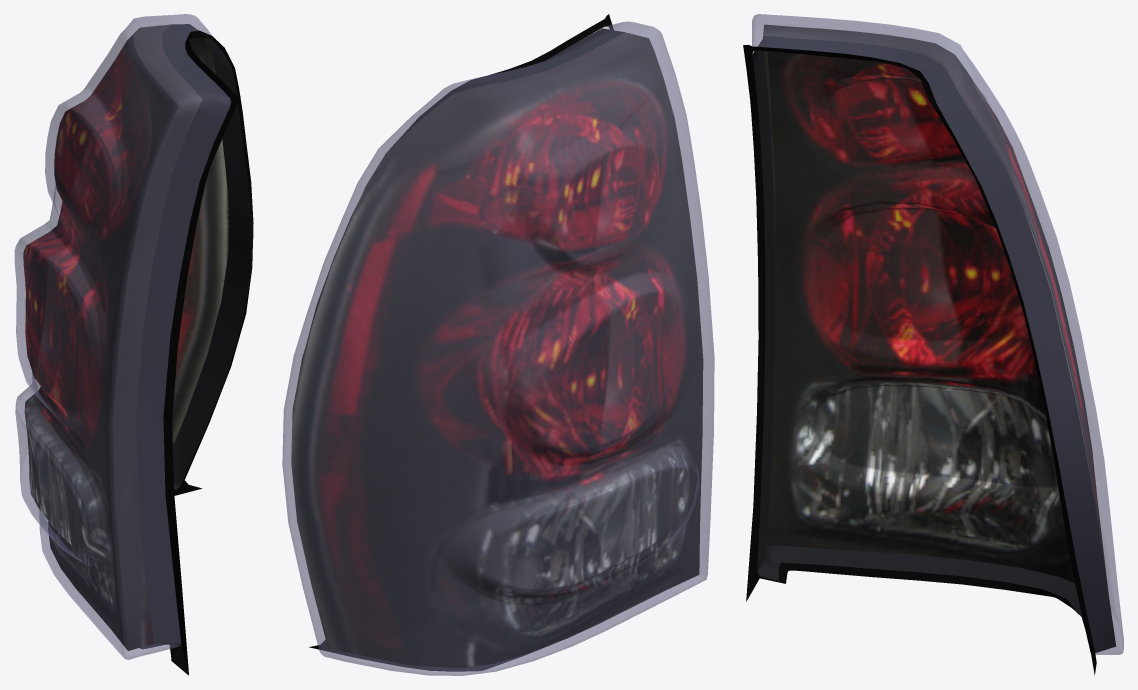
3 renders of one model, left to right at view 1: azimuth 30°, elevation 25°; view 2: azimuth 150°, elevation 25°; view 3: azimuth 270°, elevation 25°, orthographic. The views are drawn at different scales.
Parts seen in each view (by area): view 1: U843_9A_541C_L_1_N_U843_9A_541C_L, U843_9A_541C_L_U843_9A_541C_L_2_DTaSI, U843_9A_541C_L_U843_9A_541C_L_3_D; view 2: U843_9A_541C_L_U843_9A_541C_L_2_DTaSI, U843_9A_541C_L_1_N_U843_9A_541C_L, U843_9A_541C_L_U843_9A_541C_L_3_D; view 3: U843_9A_541C_L_1_N_U843_9A_541C_L, U843_9A_541C_L_U843_9A_541C_L_2_DTaSI, U843_9A_541C_L_U843_9A_541C_L_3_D.
Part boxes in pixels (x1,y1,x2,y2): U843_9A_541C_L_1_N_U843_9A_541C_L: (23, 24, 253, 650); U843_9A_541C_L_U843_9A_541C_L_2_DTaSI: (14, 14, 230, 659); U843_9A_541C_L_U843_9A_541C_L_3_D: (140, 30, 253, 675); U843_9A_541C_L_U843_9A_541C_L_2_DTaSI: (282, 21, 714, 675); U843_9A_541C_L_1_N_U843_9A_541C_L: (291, 28, 703, 668); U843_9A_541C_L_U843_9A_541C_L_3_D: (307, 14, 613, 671); U843_9A_541C_L_1_N_U843_9A_541C_L: (752, 24, 1115, 652); U843_9A_541C_L_U843_9A_541C_L_2_DTaSI: (752, 14, 1123, 654); U843_9A_541C_L_U843_9A_541C_L_3_D: (743, 44, 1096, 675).
Bounding box in the file's own units: 18.05 × 33.91 × 19.94.
